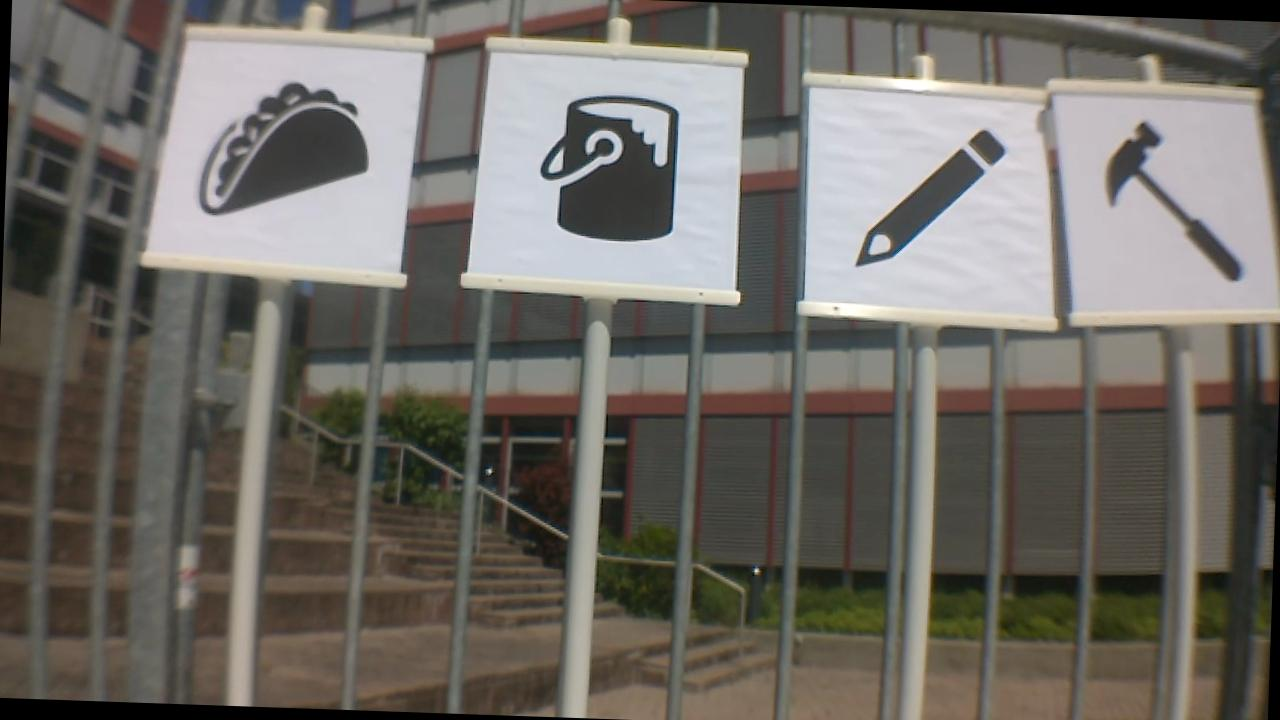bucket: (529, 85, 686, 240)
hammer: (1097, 119, 1255, 287)
pencil: (850, 122, 1008, 268)
taco: (184, 78, 381, 222)
